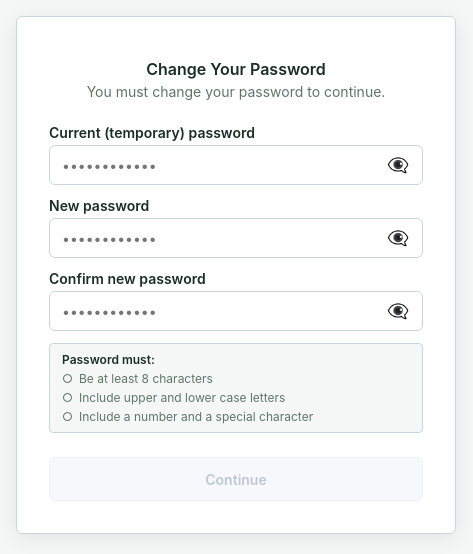
Test case: UI-02: ChangePassword Component (Policy Checklist & Confirmation) › dynamically turns checklist items green with checkmarks as password criteria are fulfilled
Type "password" into the password field with test id "new-password-input" at (236, 238), box [49,218,423,258]
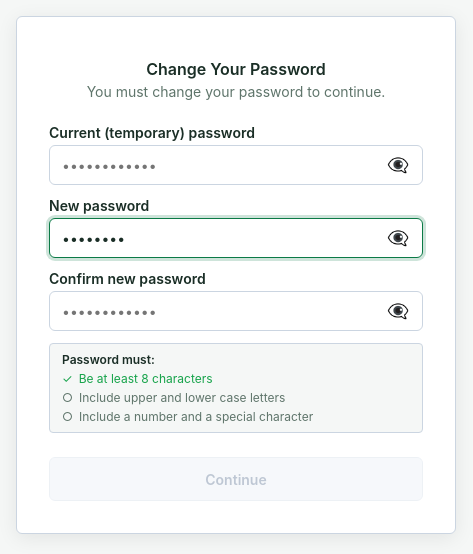
Expected: the list item with test id "rule-case" shows "○", [62,390,73,405]
Now the list item with test id "rule-length" shows "✓", box [62,371,73,386]
Type "A" into the password field with test id "new-password-input" at (236, 238), box [49,218,423,258]
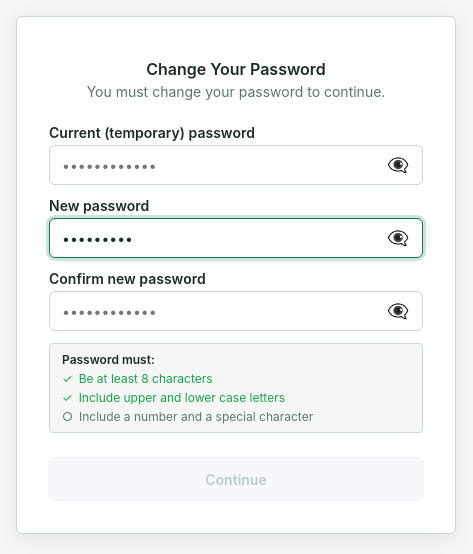
Expected: the list item with test id "rule-special" shows "○", [62,409,73,424]
Now the list item with test id "rule-length" shows "✓", box [62,371,73,386]
Now the list item with test id "rule-case" shows "✓", box [62,390,73,405]
Type "1!" into the password field with test id "new-password-input" at (236, 238), box [49,218,423,258]
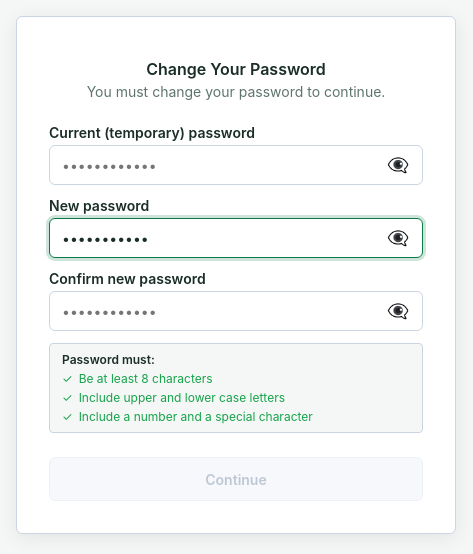
Now the list item with test id "rule-length" shows "✓", box [62,371,73,386]
Now the list item with test id "rule-case" shows "✓", box [62,390,73,405]
Now the list item with test id "rule-special" shows "✓", box [62,409,73,424]
